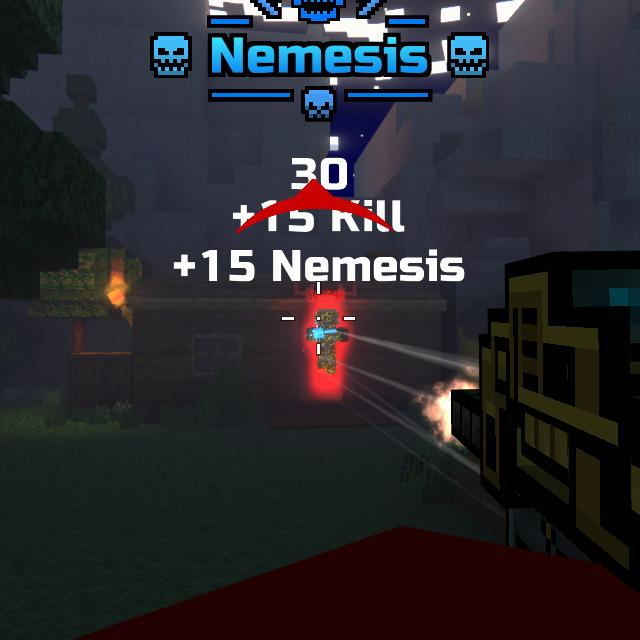Enemy: (307, 310, 349, 377)
